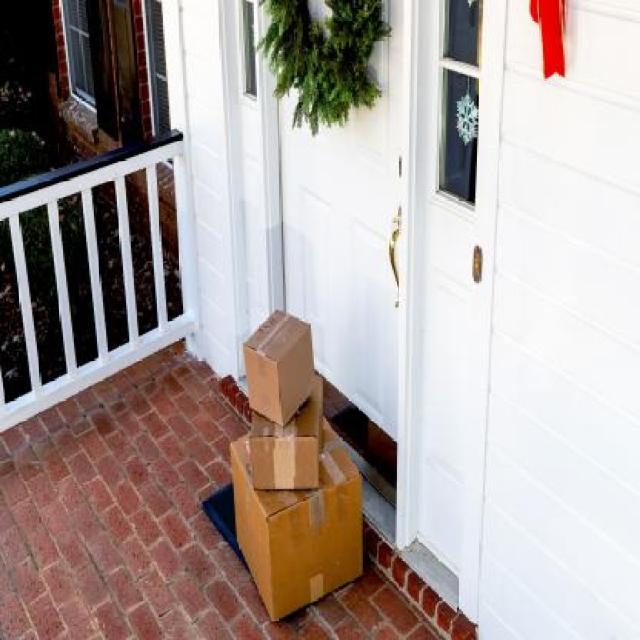cardboxes: (224, 439, 370, 623), (242, 305, 320, 429), (246, 413, 326, 492)
